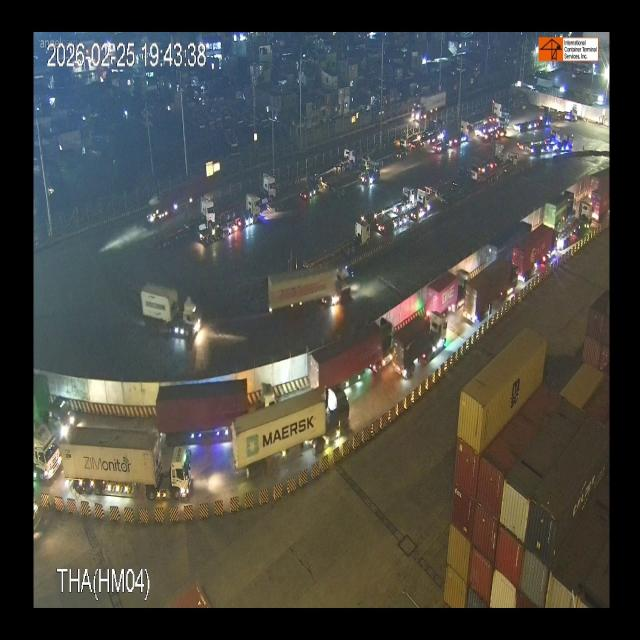truck: (227, 386, 347, 480), (58, 428, 192, 508), (145, 366, 277, 428), (308, 316, 396, 382), (386, 308, 446, 375), (266, 268, 360, 310), (464, 257, 522, 325), (144, 289, 212, 341), (298, 218, 374, 261), (426, 266, 470, 314), (217, 189, 265, 231), (162, 194, 214, 231), (522, 227, 562, 271), (545, 185, 577, 228), (563, 204, 597, 238), (250, 165, 278, 203), (587, 160, 611, 198)
